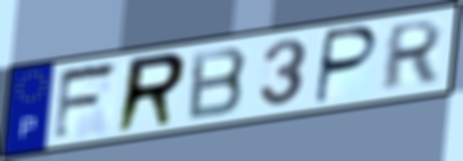3: (255, 37, 310, 110)
B: (185, 45, 251, 123)
F: (50, 58, 121, 145)
P: (311, 23, 381, 107)
R: (112, 49, 190, 137), (377, 17, 446, 94)
